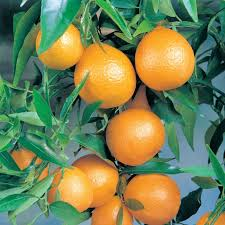orange: (132, 23, 196, 91), (76, 40, 136, 108), (104, 108, 165, 167), (123, 172, 181, 224), (69, 148, 118, 205), (36, 20, 85, 71), (46, 164, 95, 212), (91, 194, 134, 225)
